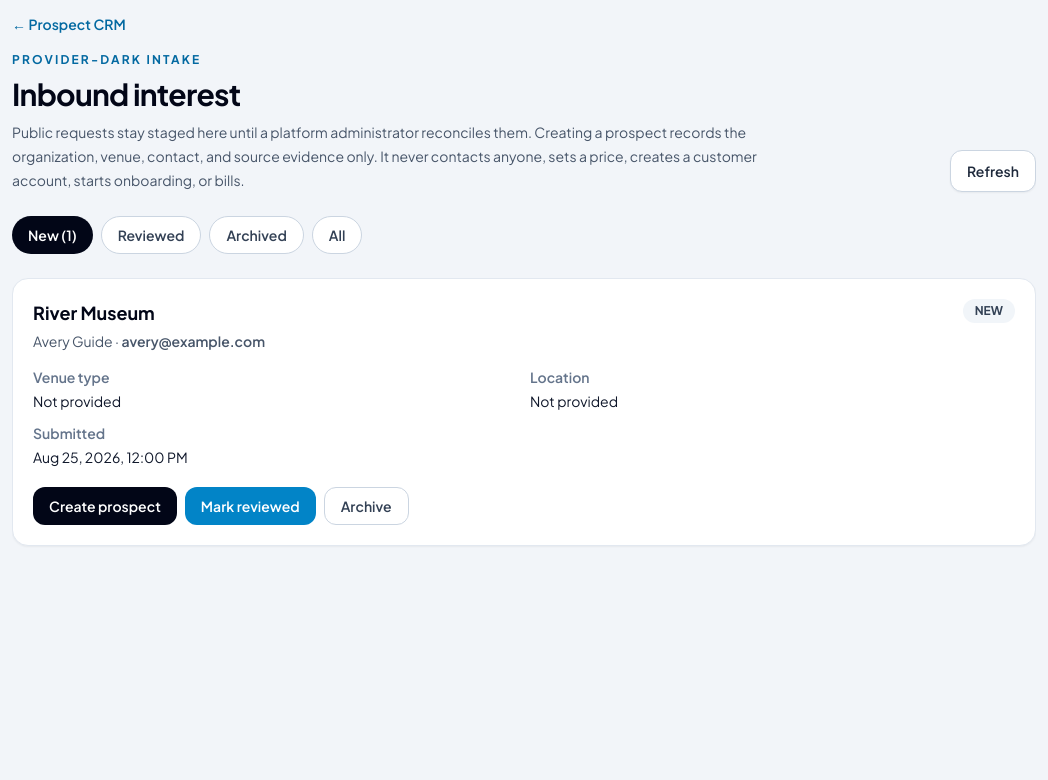
PublicInterestInbox › distinguishes a saved review from a failed follow-up refresh
Click the button "Mark reviewed".
click(250, 506)  # box [185,487,316,525]
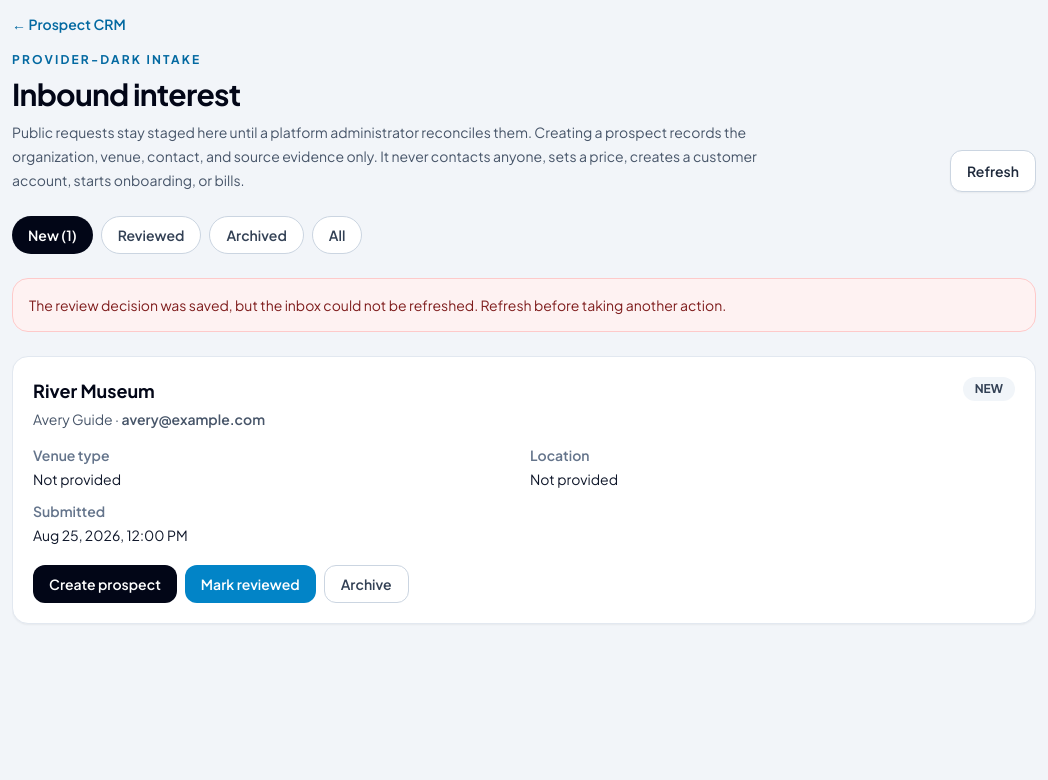
Now the text "review decision was saved, but the inbox" is shown, box [29,296,726,314]
